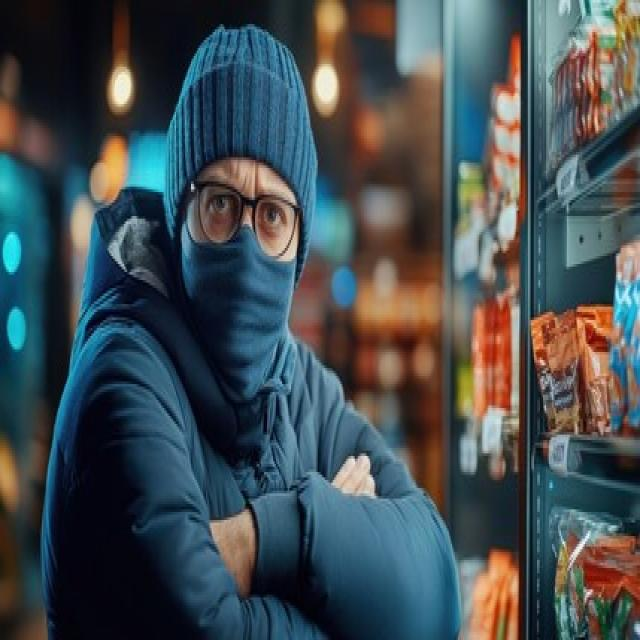person-with-mask: (27, 8, 488, 640)
